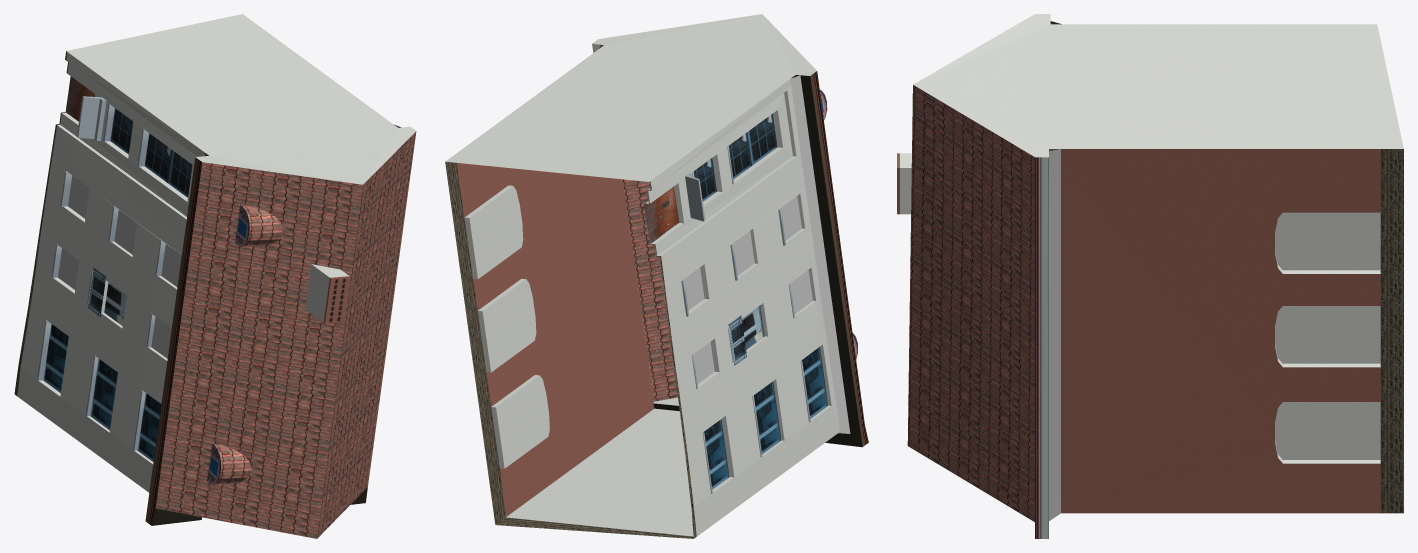
The model's file is Myyrivahe_29.obj.
3 renders of one model, left to right at view 1: azimuth 30°, elevation 25°; view 2: azimuth 150°, elevation 25°; view 3: azimuth 270°, elevation 25°, orthographic. The views are drawn at different scales.
Parts seen in each view (by area): view 1: Myyrivahe_29; view 2: Myyrivahe_29; view 3: Myyrivahe_29.
Boxes of the visible parts, left/top/right/bottom form: Myyrivahe_29: left=14, top=14, right=416, bottom=538; Myyrivahe_29: left=445, top=14, right=868, bottom=538; Myyrivahe_29: left=897, top=14, right=1403, bottom=538.
Size of the model in its own units: 10.86 by 14.93 by 15.8.
